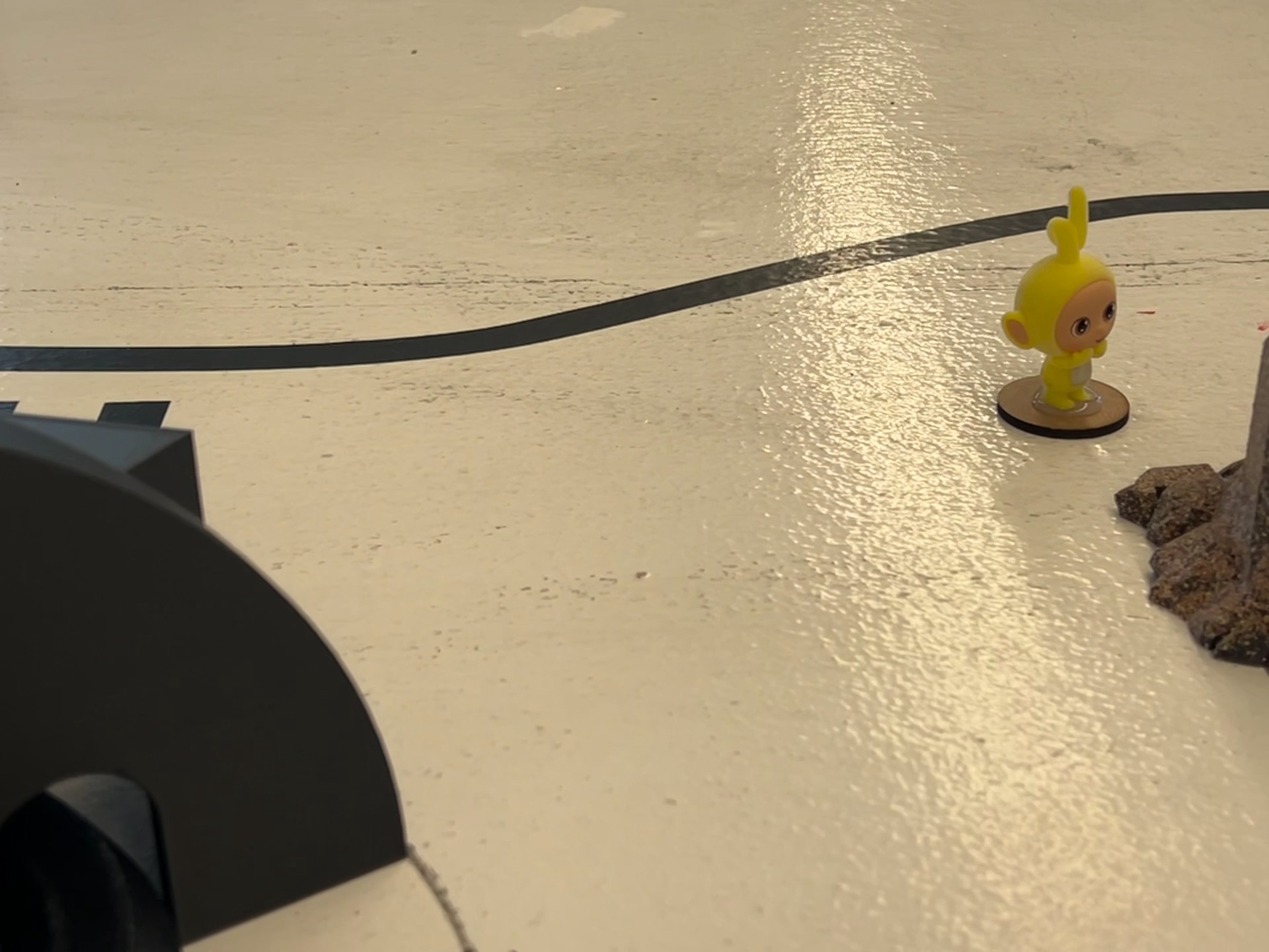teletubby: (1002, 186, 1116, 412)
